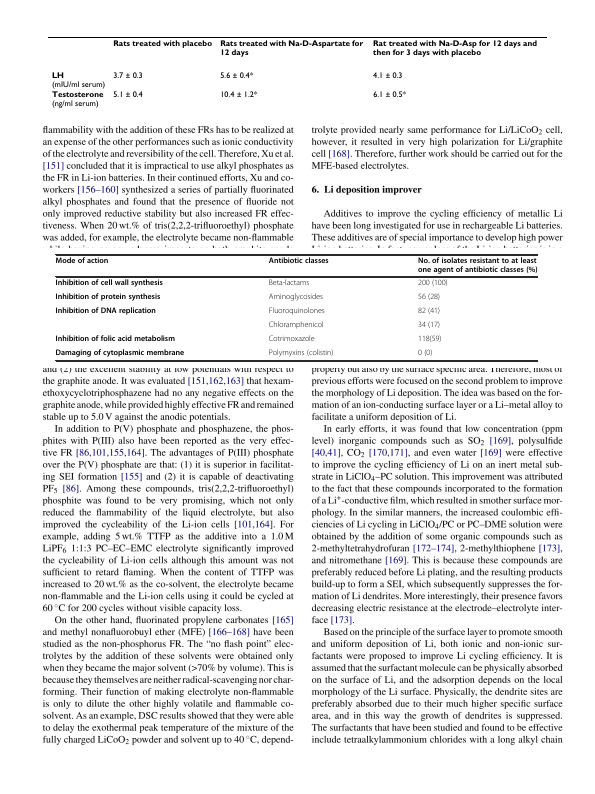borderless: (54, 253, 537, 360), (46, 35, 548, 117)
cell: (372, 40, 537, 58), (219, 40, 364, 58), (417, 257, 538, 275), (55, 349, 185, 359), (55, 335, 176, 345), (55, 279, 164, 289), (50, 71, 106, 90), (55, 293, 161, 303), (55, 307, 157, 317), (50, 91, 104, 109), (112, 40, 213, 49), (268, 349, 334, 359), (268, 307, 326, 317), (268, 293, 324, 303), (268, 321, 324, 331), (268, 257, 330, 266), (55, 257, 109, 266), (268, 335, 315, 345), (268, 279, 310, 289), (219, 90, 258, 100), (219, 71, 254, 81), (372, 90, 406, 100), (417, 279, 448, 289), (112, 71, 143, 81), (372, 71, 403, 81), (112, 90, 143, 100), (417, 335, 442, 345), (417, 293, 441, 303), (417, 307, 441, 317), (417, 321, 441, 331), (417, 349, 433, 359)
